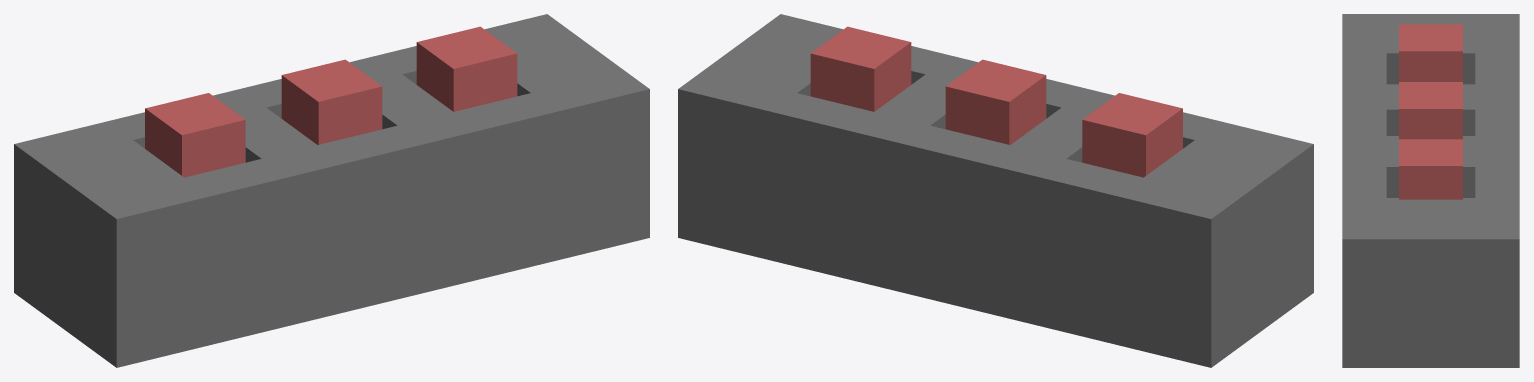
The model's file is FBX_Timer.fbx.
3 views of the same model, side by side, from view 1: azimuth 30°, elevation 25°; view 2: azimuth 150°, elevation 25°; view 3: azimuth 270°, elevation 25° (orthographic). The views are drawn at different scales.
Visible parts, largest first — view 1: SM_TimerBase, SM_TimerButtonMid, SM_TimerButtonRight, SM_TimerButtonLeft; view 2: SM_TimerBase, SM_TimerButtonMid, SM_TimerButtonRight, SM_TimerButtonLeft; view 3: SM_TimerBase, SM_TimerButtonRight, SM_TimerButtonMid, SM_TimerButtonLeft.
Boxes of the visible parts, x1,y1,x2,y2 form: SM_TimerBase: (14,14,649,367); SM_TimerButtonMid: (281,59,382,144); SM_TimerButtonRight: (416,26,517,111); SM_TimerButtonLeft: (145,93,245,177); SM_TimerBase: (678,14,1313,367); SM_TimerButtonMid: (945,59,1046,144); SM_TimerButtonRight: (810,26,911,111); SM_TimerButtonLeft: (1082,93,1182,177); SM_TimerBase: (1342,14,1519,367); SM_TimerButtonRight: (1399,139,1462,199); SM_TimerButtonMid: (1399,82,1462,139); SM_TimerButtonLeft: (1399,24,1462,81).
Size of the model in its own units: 30 by 9.93 by 10.
